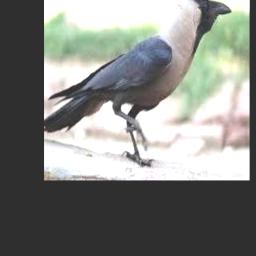Crow: (45, 0, 232, 167)
